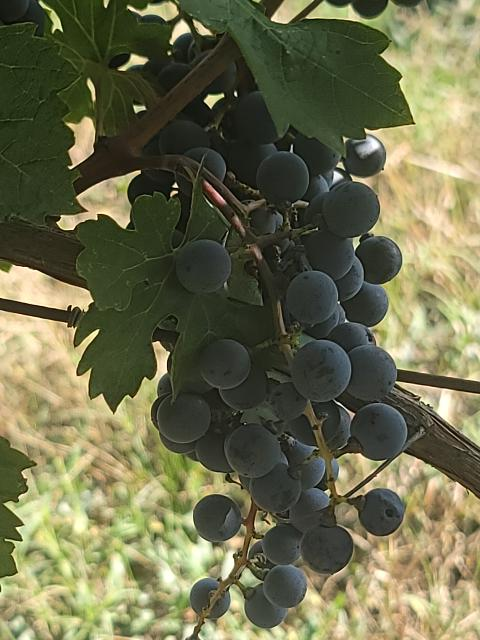grapes: (152, 135, 425, 629)
